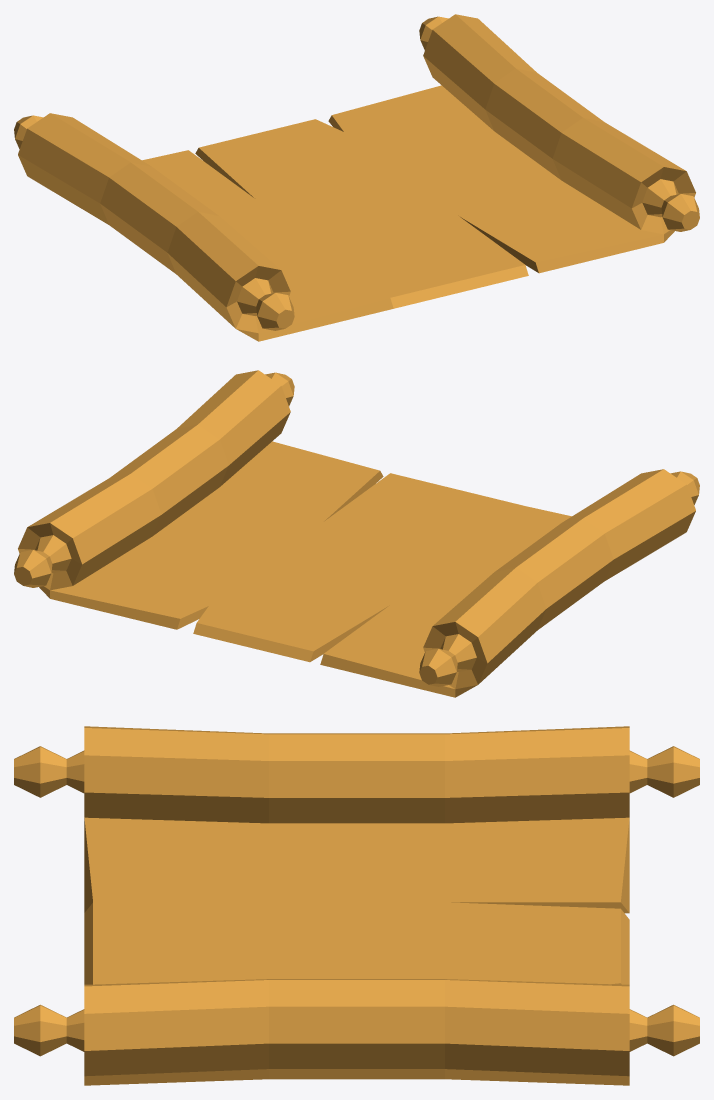
File: egypt-papyrus.fbx
The picture shows the model from 3 angles, top to bottom: view 1: azimuth 30°, elevation 25°; view 2: azimuth 150°, elevation 25°; view 3: azimuth 270°, elevation 25°; orthographic projection. The views are drawn at different scales.
Visible parts, largest first — view 1: egypt-papyrus; view 2: egypt-papyrus; view 3: egypt-papyrus.
Part boxes in pixels (left/top/right/bottom): egypt-papyrus: left=14, top=14, right=699, bottom=341; egypt-papyrus: left=14, top=370, right=699, bottom=697; egypt-papyrus: left=14, top=726, right=699, bottom=1085.
Size of the model in its own units: 0.7864 by 0.1215 by 0.7607.
